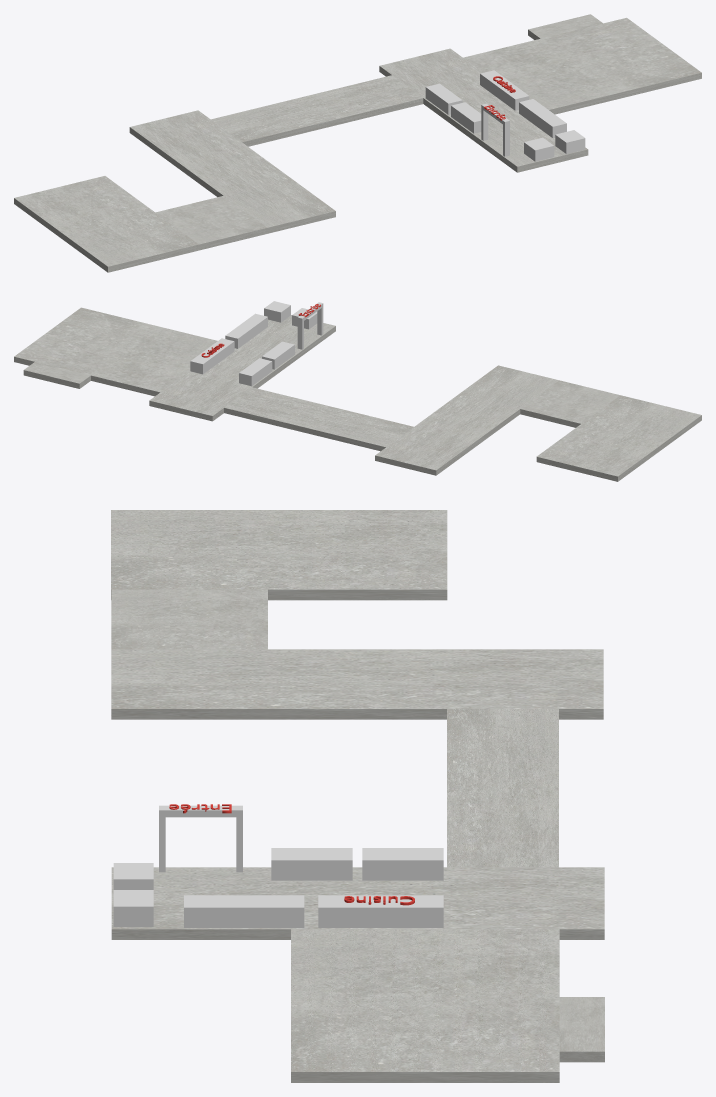
Rendered from plan.glb.
3 views of the same model, one above another, from view 1: azimuth 30°, elevation 25°; view 2: azimuth 150°, elevation 25°; view 3: azimuth 270°, elevation 25° (orthographic). The views are drawn at different scales.
Visible parts, largest first — view 1: zone-b, zone-c, zone-a, Zone-d, 27, Cuisine, 28, 29, Entree, 26, 26.001; view 2: zone-b, zone-c, zone-a, Zone-d, Cuisine, 27, 29, Entree, 28, 26, 26.001; view 3: zone-b, zone-c, zone-a, Zone-d, 27, Cuisine, 28, 29, Entree, 26, 26.001.
Boxes of the visible parts, bbox=[...] form: zone-b: bbox=[14, 110, 335, 272]; zone-c: bbox=[463, 14, 701, 114]; zone-a: bbox=[379, 48, 588, 172]; Zone-d: bbox=[211, 75, 423, 146]; 27: bbox=[519, 99, 566, 137]; Cuisine: bbox=[480, 70, 529, 110]; 28: bbox=[451, 102, 481, 133]; 29: bbox=[425, 83, 462, 114]; Entree: bbox=[481, 103, 509, 156]; 26: bbox=[555, 130, 585, 153]; 26.001: bbox=[524, 137, 554, 161]; zone-b: bbox=[375, 365, 701, 481]; zone-c: bbox=[14, 307, 217, 396]; zone-a: bbox=[149, 315, 335, 421]; Zone-d: bbox=[224, 387, 413, 451]; Cuisine: bbox=[190, 338, 234, 374]; 27: bbox=[225, 313, 267, 348]; 29: bbox=[239, 358, 272, 386]; Entree: bbox=[297, 302, 323, 349]; 28: bbox=[262, 341, 294, 369]; 26: bbox=[264, 301, 290, 322]; 26.001: bbox=[292, 308, 317, 329]; zone-b: bbox=[111, 510, 603, 719]; zone-c: bbox=[291, 929, 604, 1082]; zone-a: bbox=[111, 867, 604, 939]; Zone-d: bbox=[447, 709, 558, 867]; 27: bbox=[184, 895, 304, 927]; Cuisine: bbox=[318, 895, 443, 927]; 28: bbox=[271, 848, 352, 880]; 29: bbox=[362, 848, 443, 880]; Entree: bbox=[159, 805, 242, 872]; 26: bbox=[113, 890, 153, 926]; 26.001: bbox=[113, 863, 153, 889].
Size of the model in its own units: 55.11 by 3.37 by 20.47.
8 materials, 1 textured.
